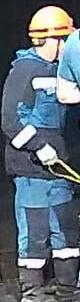helmet: (27, 5, 73, 38)
vest: (1, 47, 79, 183)
